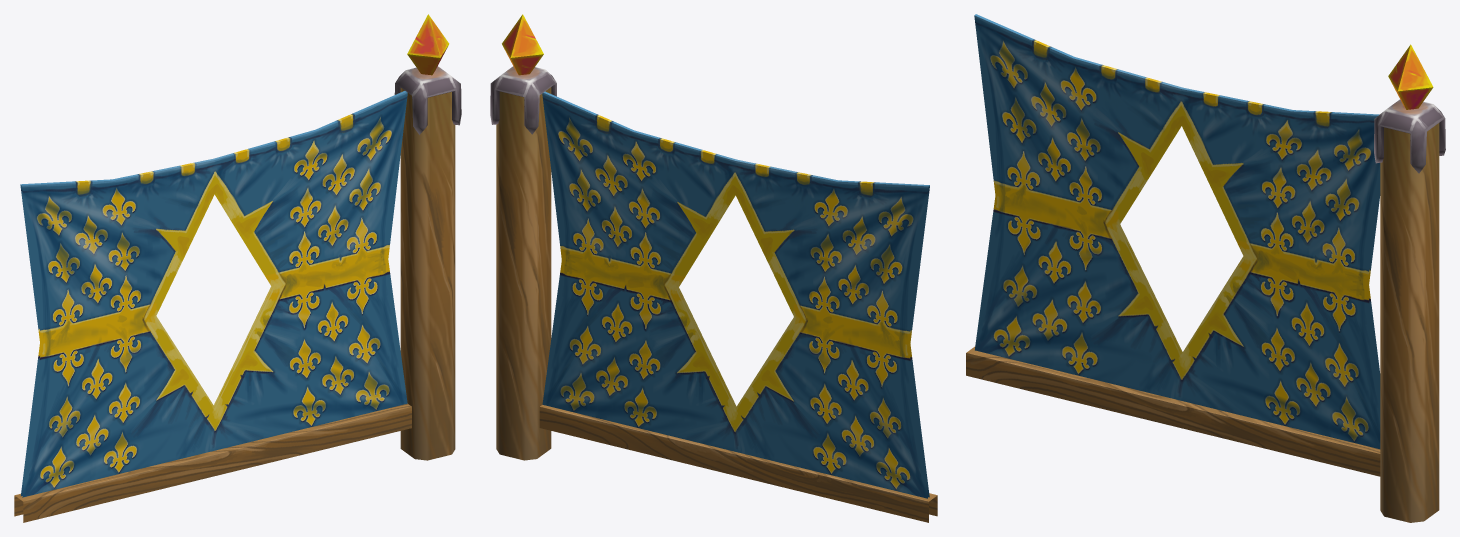
The model's file is wall_cloth_001.FBX.
3 renders of one model, left to right at view 1: azimuth 30°, elevation 25°; view 2: azimuth 150°, elevation 25°; view 3: azimuth 330°, elevation 25°, orthographic. The views are drawn at different scales.
Parts seen in each view (by area): view 1: wall_cloth_001; view 2: wall_cloth_001; view 3: wall_cloth_001.
Boxes of the visible parts, x1,y1,x2,y2 form: wall_cloth_001: [14, 14, 461, 522]; wall_cloth_001: [490, 14, 937, 522]; wall_cloth_001: [966, 14, 1445, 522].
Size of the model in its own units: 42.69 by 40.88 by 4.83.
1 material, 1 textured.
